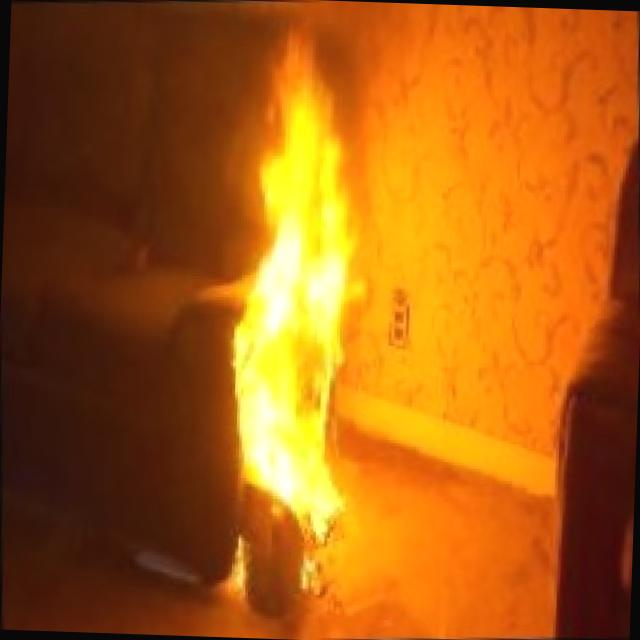fire: (222, 17, 384, 542)
